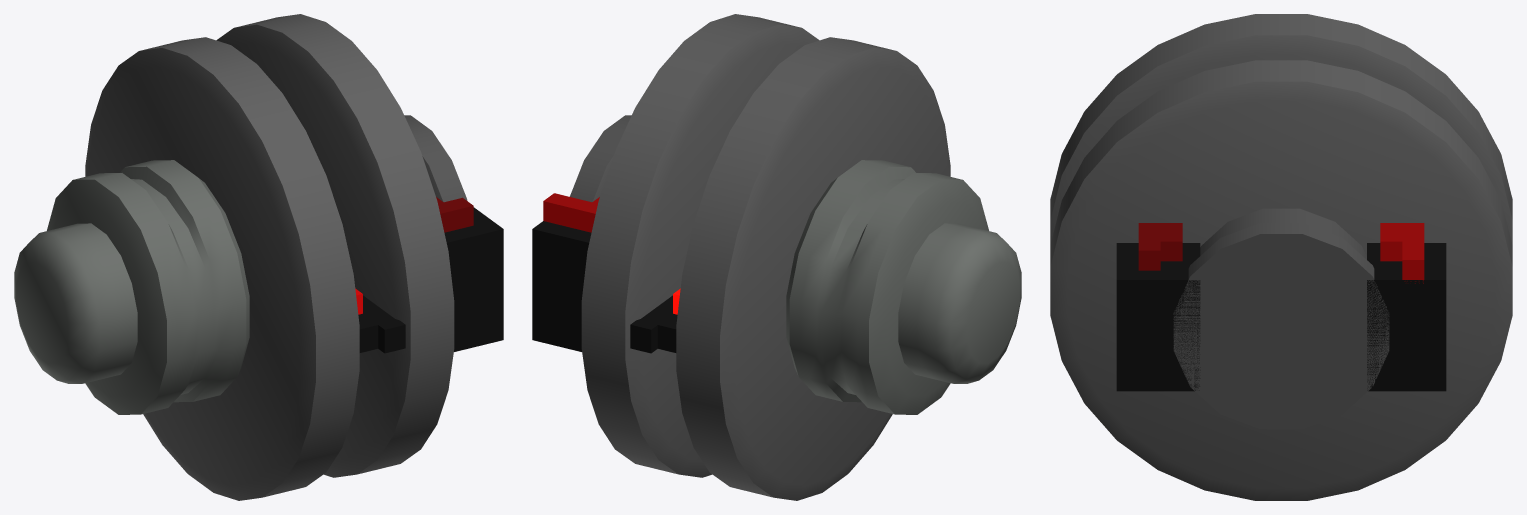
Rendered from newshl-24.glb.
The picture shows the model from 3 angles, left to right: view 1: azimuth 30°, elevation 25°; view 2: azimuth 150°, elevation 25°; view 3: azimuth 270°, elevation 25°; orthographic projection.
Visible parts, largest first — view 1: newshl-24; view 2: newshl-24; view 3: newshl-24.
Part boxes in pixels (x1,y1,x2,y2): newshl-24: (14, 14, 503, 500); newshl-24: (532, 14, 1021, 500); newshl-24: (1050, 14, 1512, 500).
Size of the model in its own units: 1.67 by 1.76 by 1.76.
